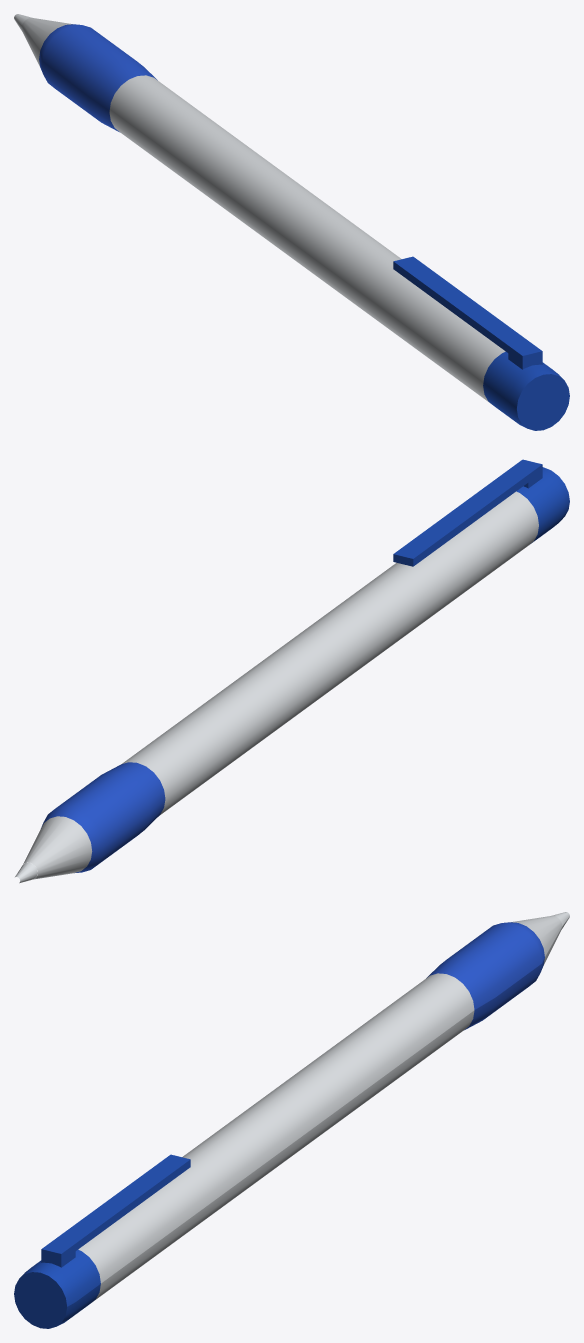
File: ballpoint_pen.glb
The picture shows the model from 3 angles, top to bottom: view 1: azimuth 30°, elevation 25°; view 2: azimuth 150°, elevation 25°; view 3: azimuth 330°, elevation 25°; orthographic projection.
Parts seen in each view (by area): view 1: BallpointPen; view 2: BallpointPen; view 3: BallpointPen.
Part boxes in pixels (x1,y1,x2,y2): BallpointPen: (14,14,569,430); BallpointPen: (15,459,569,883); BallpointPen: (14,912,569,1328).
Size of the model in its own units: 0.0099 by 0.0112 by 0.1465.
